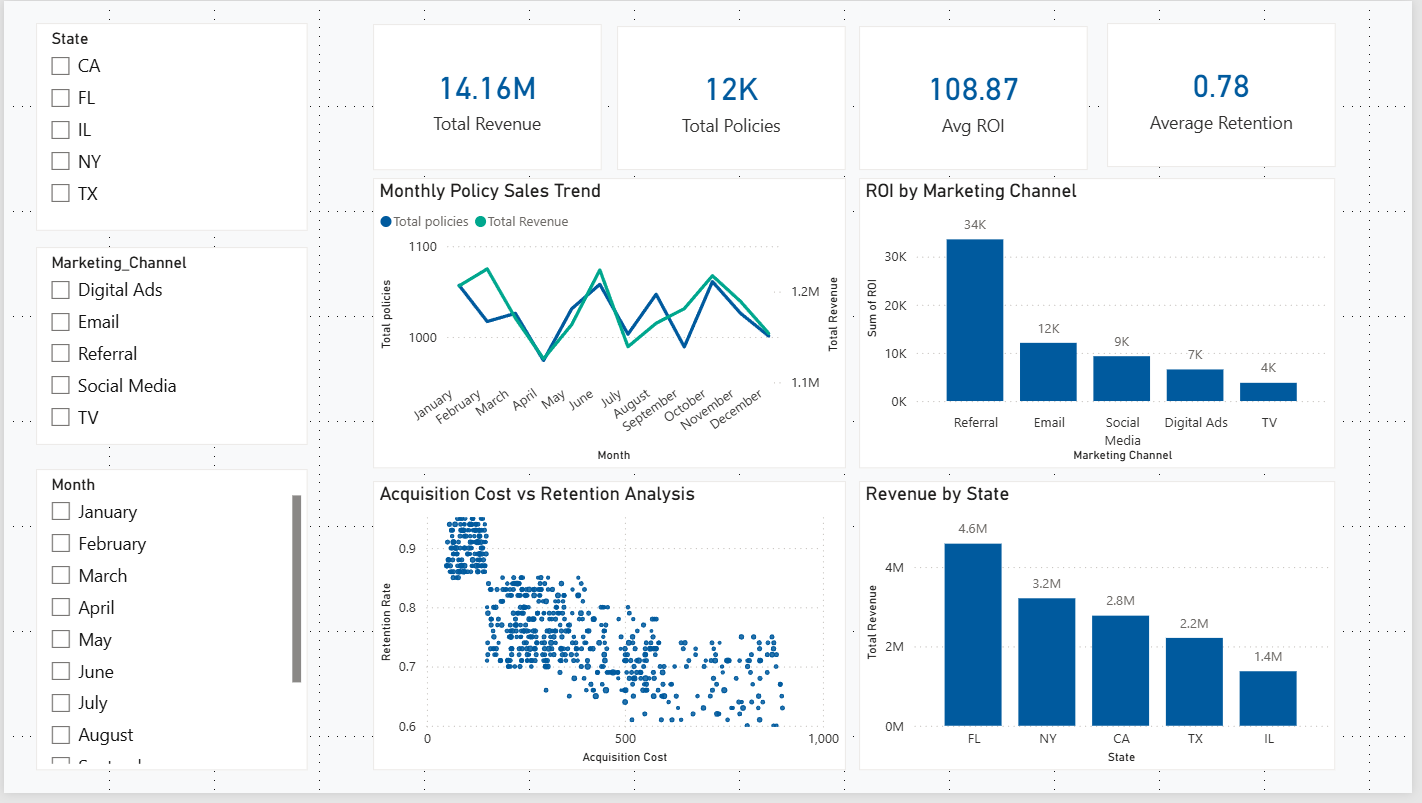

What the dashboard file says about the page in this screenshot:
{"tool":"powerbi","page":{"name":"Page 1","canvas":[1280,720],"ordinal":0},"visuals":[{"type":"lineChart","title":"Monthly Policy Sales Trend","fields":{"Category":["insurance_agency_analysis_ready.Month.Variation.Date Hierarchy.Month"],"Y":["Sum(insurance_agency_analysis_ready.Policies_Sold)"],"Y2":["Sum(insurance_agency_analysis_ready.Premium_Amount)"]},"box":[335,161.2,430,263.8],"z":0},{"type":"clusteredColumnChart","title":"ROI by Marketing Channel","fields":{"Category":["insurance_agency_analysis_ready.Marketing_Channel"],"Y":["Sum(insurance_agency_analysis_ready.ROI)"]},"box":[777.5,161.2,432.5,263.8],"z":1000},{"type":"clusteredColumnChart","title":"Revenue by State","fields":{"Category":["insurance_agency_analysis_ready.State"],"Y":["Sum(insurance_agency_analysis_ready.Premium_Amount)"]},"box":[777.5,436.2,432.5,262.5],"z":2000},{"type":"scatterChart","title":"Acquisition Cost vs Retention Analysis","fields":{"Size":["Sum(insurance_agency_analysis_ready.Premium_Amount)"],"Category":["insurance_agency_analysis_ready.Acquisition_Cost","insurance_agency_analysis_ready.Retention_Rate"],"X":["Sum(insurance_agency_analysis_ready.Acquisition_Cost)"],"Y":["Sum(insurance_agency_analysis_ready.Retention_Rate)"]},"box":[335,436.2,430,262.5],"z":3000},{"type":"card","fields":{"Values":["insurance_agency_analysis_ready.Total Revenue"]},"box":[335,21.2,207.5,132.5],"z":4000},{"type":"card","fields":{"Values":["Sum(insurance_agency_analysis_ready.Policies_Sold)"]},"box":[557.5,22.5,207.5,131.2],"z":5000},{"type":"card","fields":{"Values":["insurance_agency_analysis_ready.Avg ROI"]},"box":[777.5,22.5,207.5,131.2],"z":6000},{"type":"card","fields":{"Values":["insurance_agency_analysis_ready.Average Retention"]},"box":[1002.5,20,207.5,131.2],"z":7000},{"type":"slicer","fields":{"Values":["insurance_agency_analysis_ready.State"]},"box":[29.1,20,247.3,189.1],"z":7001},{"type":"slicer","fields":{"Values":["insurance_agency_analysis_ready.Marketing_Channel"]},"box":[29.1,223.6,247.3,180],"z":7002},{"type":"slicer","fields":{"Values":["insurance_agency_analysis_ready.Month.Variation.Date Hierarchy.Month"]},"box":[29.1,425.5,247.3,273.6],"z":7003}]}

Visuals, with their boxes in screenshot pixels (x1, y1, x2, y2), scaled from the page's 1280x720 canvas onto the 1422x803 screenshot:
"Monthly Policy Sales Trend" lineChart: x1=372 y1=180 x2=850 y2=474
"ROI by Marketing Channel" clusteredColumnChart: x1=864 y1=180 x2=1344 y2=474
"Revenue by State" clusteredColumnChart: x1=864 y1=486 x2=1344 y2=779
"Acquisition Cost vs Retention Analysis" scatterChart: x1=372 y1=486 x2=850 y2=779
card - insurance_agency_analysis_ready.Total Revenue: x1=372 y1=24 x2=603 y2=171
card - Sum(insurance_agency_analysis_ready.Policies_Sold): x1=619 y1=25 x2=850 y2=171
card - insurance_agency_analysis_ready.Avg ROI: x1=864 y1=25 x2=1094 y2=171
card - insurance_agency_analysis_ready.Average Retention: x1=1114 y1=22 x2=1344 y2=169
slicer - insurance_agency_analysis_ready.State: x1=32 y1=22 x2=307 y2=233
slicer - insurance_agency_analysis_ready.Marketing_Channel: x1=32 y1=249 x2=307 y2=450
slicer - insurance_agency_analysis_ready.Month.Variation.Date Hierarchy.Month: x1=32 y1=475 x2=307 y2=780
